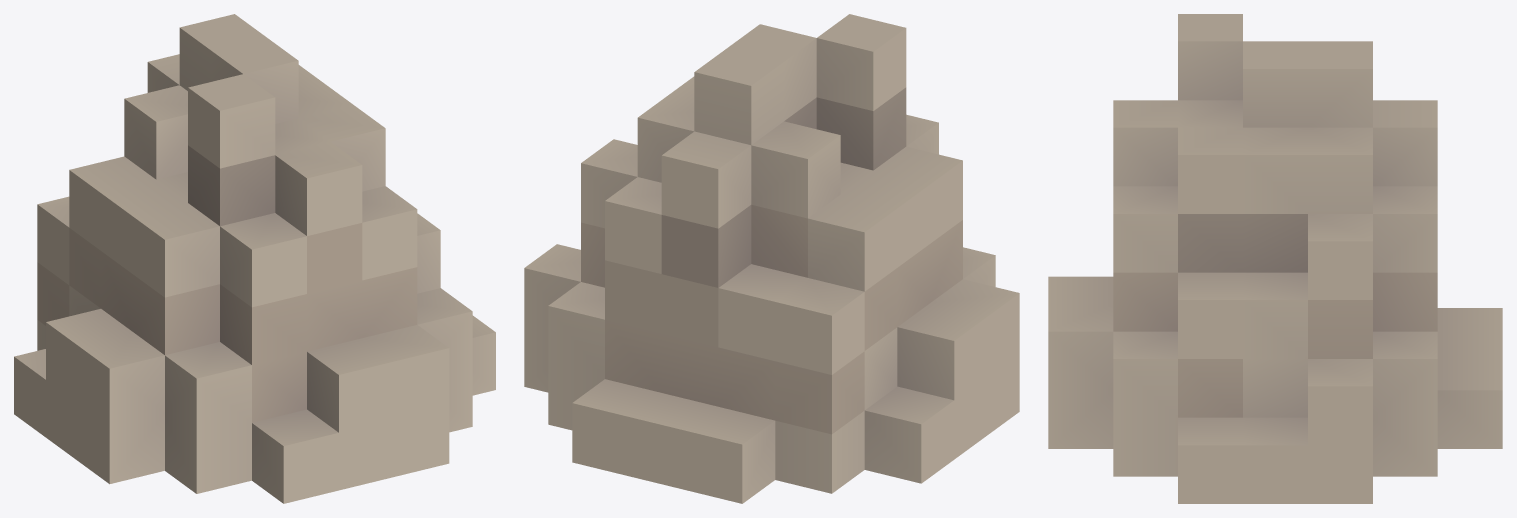
The model's file is decor_crag_b.glb.
The picture shows the model from 3 angles, left to right: view 1: azimuth 30°, elevation 25°; view 2: azimuth 150°, elevation 25°; view 3: azimuth 270°, elevation 25°; orthographic projection. The views are drawn at different scales.
Visible parts, largest first — view 1: decor_crag_b; view 2: decor_crag_b; view 3: decor_crag_b.
Boxes of the visible parts, x1=… form: decor_crag_b: x1=14, y1=14, x2=495, y2=503; decor_crag_b: x1=524, y1=14, x2=1019, y2=503; decor_crag_b: x1=1048, y1=14, x2=1502, y2=503.
Size of the model in its own units: 0.875 by 0.75 by 0.875.
